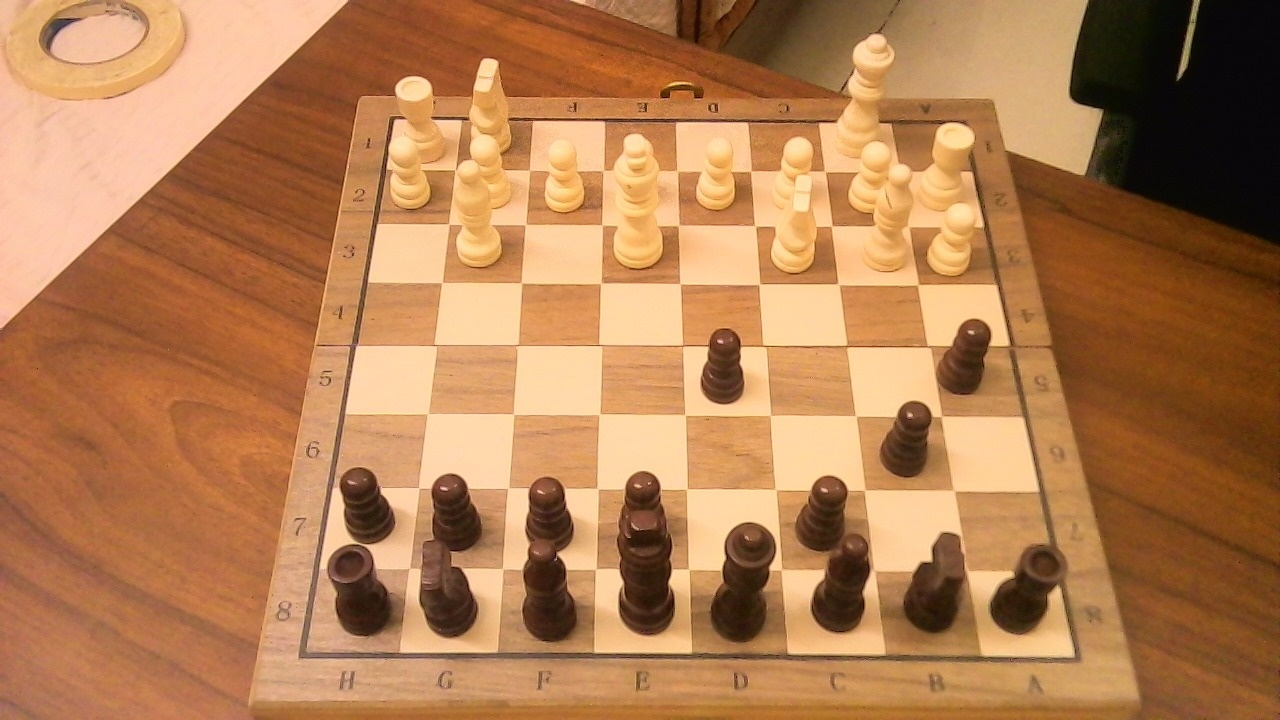B: (855, 154, 923, 278), (448, 148, 513, 271)
K: (606, 124, 674, 271)
N: (763, 162, 830, 277), (460, 48, 520, 158)
P: (841, 132, 905, 219), (458, 125, 518, 213), (923, 194, 985, 278), (382, 119, 438, 211), (764, 128, 822, 215), (535, 129, 591, 216), (688, 128, 744, 215)
Q: (829, 20, 900, 163)
R: (917, 111, 984, 216), (390, 67, 451, 167)
b: (508, 538, 590, 646), (827, 521, 884, 638)
k: (610, 520, 680, 640)
n: (899, 515, 979, 637), (411, 526, 489, 642)
p: (330, 456, 405, 544), (874, 388, 944, 480), (691, 317, 756, 408), (937, 307, 1001, 397), (432, 473, 482, 552), (522, 477, 576, 550), (618, 470, 668, 545), (803, 475, 853, 550)
q: (700, 510, 791, 648)
r: (985, 531, 1076, 638), (321, 533, 401, 639)
